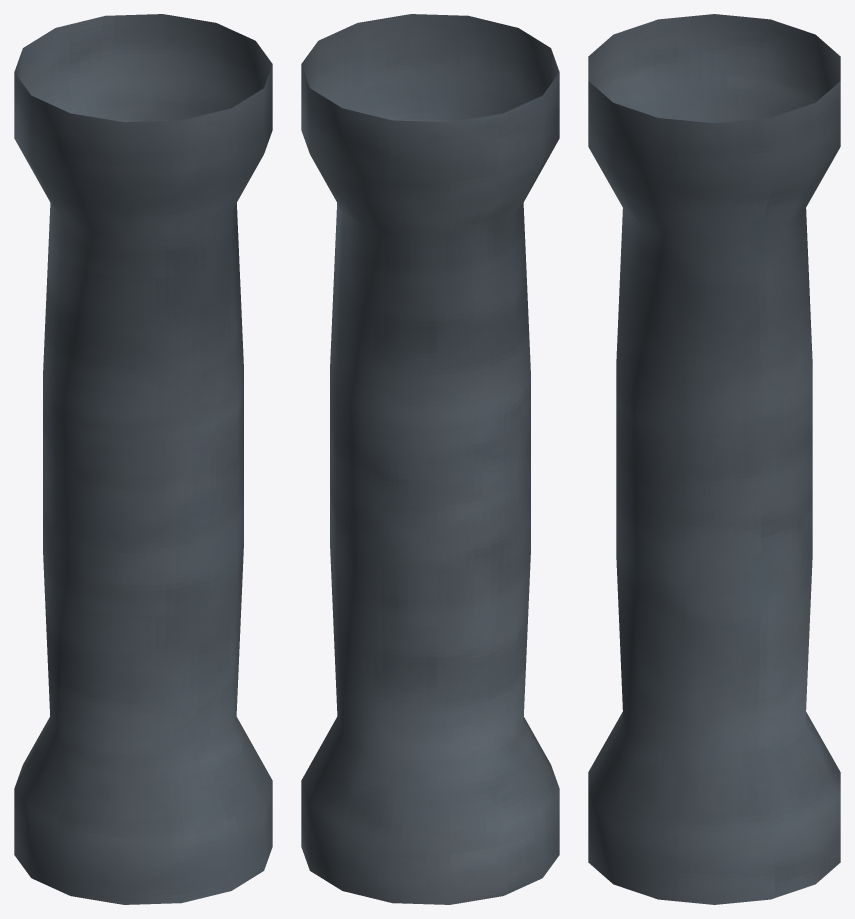
Rendered from pillar_round.FBX.
3 renders of one model, left to right at view 1: azimuth 30°, elevation 25°; view 2: azimuth 150°, elevation 25°; view 3: azimuth 270°, elevation 25°, orthographic.
Visible parts, largest first — view 1: pillar_round; view 2: pillar_round; view 3: pillar_round.
Boxes of the visible parts, box(x1,y1,x2,y2) form: pillar_round: box(14, 14, 272, 904); pillar_round: box(301, 14, 559, 904); pillar_round: box(588, 14, 840, 904).
Bounding box in the file's own units: 120 × 400 × 117.
